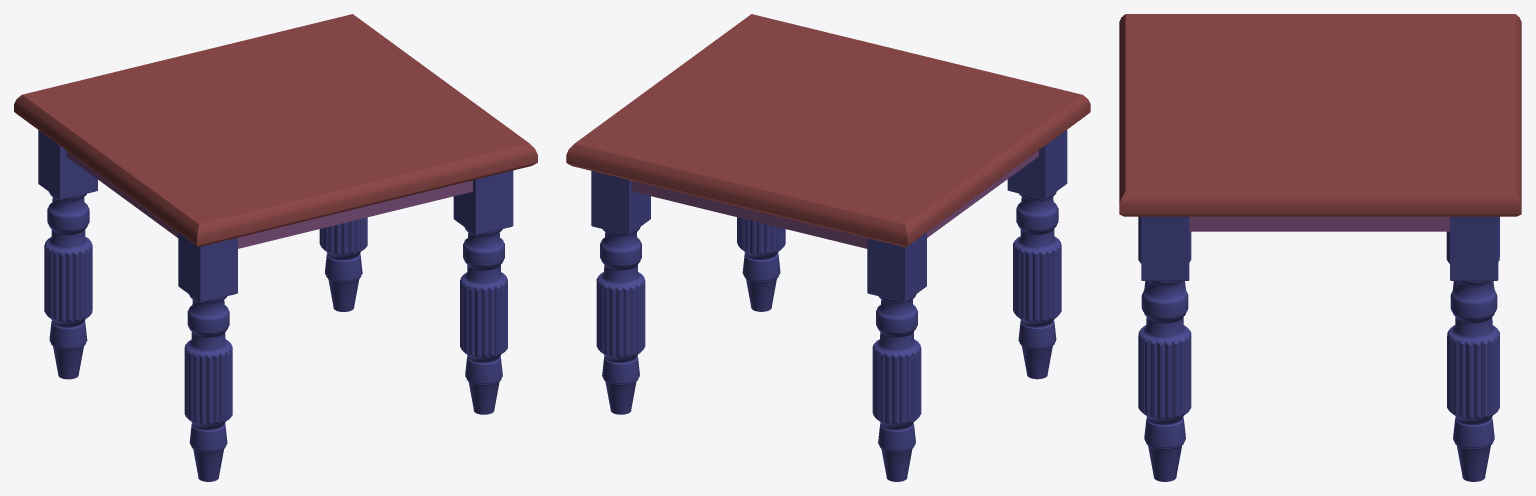
File: table_low.fbx
3 renders of one model, left to right at view 1: azimuth 30°, elevation 25°; view 2: azimuth 150°, elevation 25°; view 3: azimuth 270°, elevation 25°, orthographic. The views are drawn at different scales.
Parts seen in each view (by area): view 1: table_low, legs_low, undertable_low; view 2: table_low, legs_low, undertable_low; view 3: table_low, legs_low, undertable_low.
Boxes of the visible parts, x1,y1,x2,y2 form: table_low: (14,14,537,246); legs_low: (38,130,513,481); undertable_low: (66,151,472,248); table_low: (566,14,1090,247); legs_low: (591,130,1067,481); undertable_low: (631,150,1038,248); table_low: (1119,14,1521,216); legs_low: (1138,216,1499,481); undertable_low: (1189,216,1449,231).
Size of the model in its own units: 10.76 by 8.24 by 10.01.
